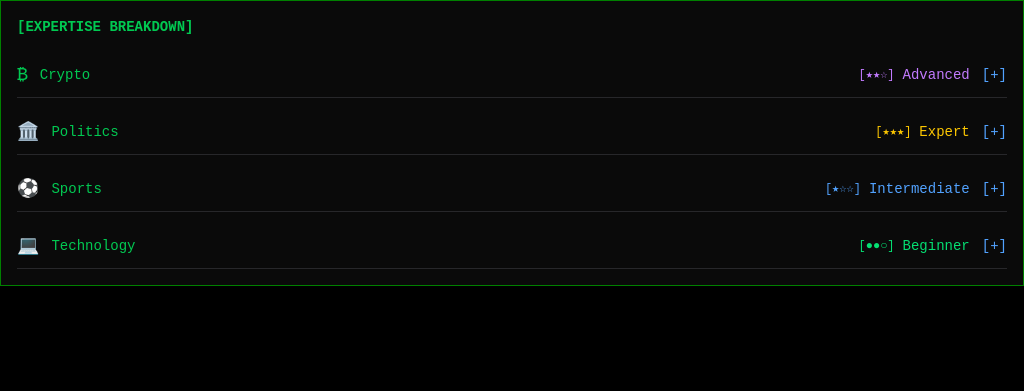
Test: ExpertiseBreakdown › can expand to show details
What coordinates should you click on to do the following:
click the button with test id "expand-button" next to "advanced"
I would click on:
 (994, 75)
Its box is [982, 65, 1007, 85].
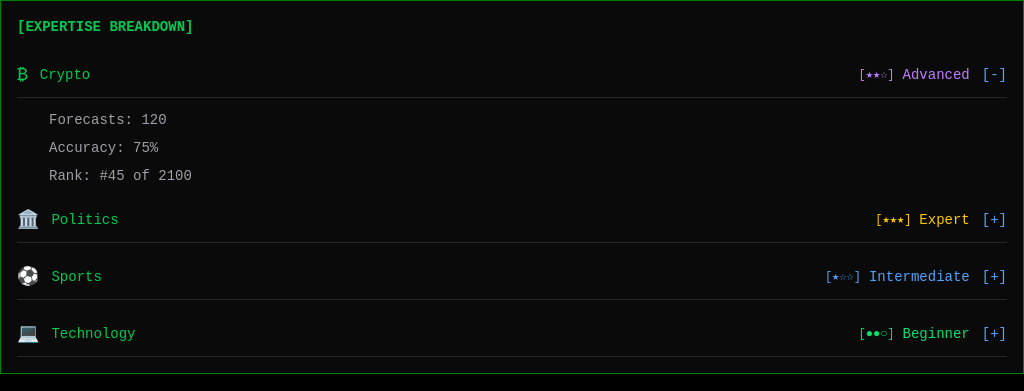
Expected: the element with test id "expanded-details" is shown, [49, 112, 192, 184]
